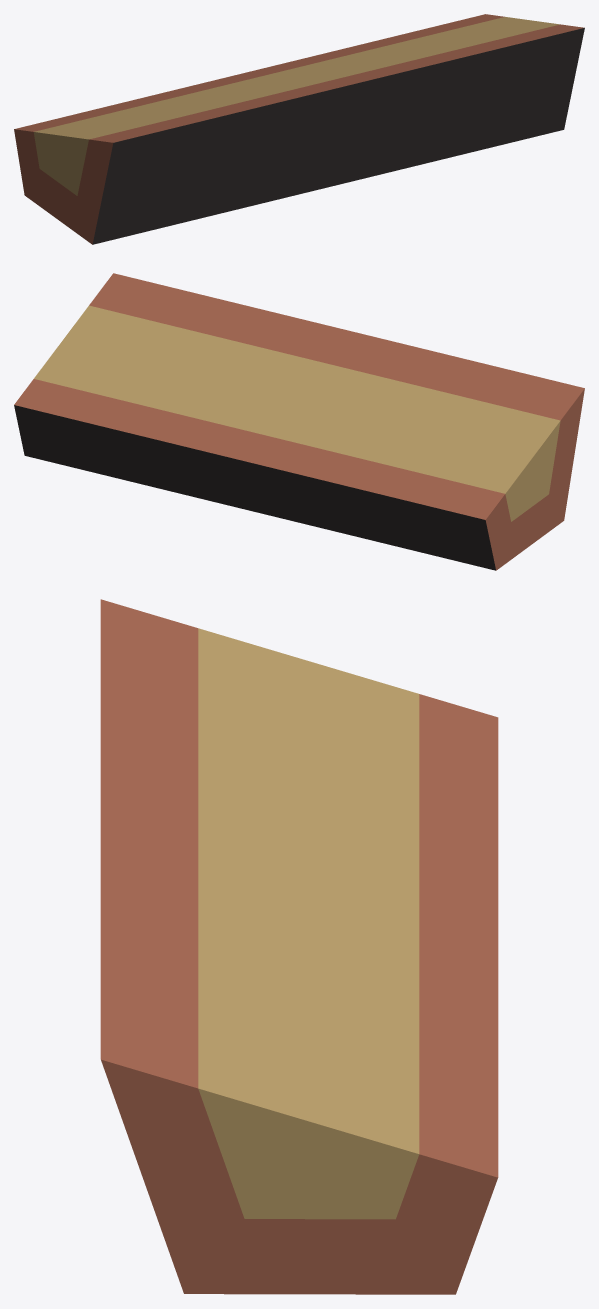
Rendered from TB_Prop_Lumber_Half_C.FBX.
3 renders of one model, top to bottom at view 1: azimuth 30°, elevation 25°; view 2: azimuth 150°, elevation 25°; view 3: azimuth 270°, elevation 25°, orthographic. The views are drawn at different scales.
Visible parts, largest first — view 1: TB_Prop_Lumber_Half_C; view 2: TB_Prop_Lumber_Half_C; view 3: TB_Prop_Lumber_Half_C.
Part boxes in pixels (<box>): TB_Prop_Lumber_Half_C: <box>14,14,584,244</box>; TB_Prop_Lumber_Half_C: <box>14,273,584,570</box>; TB_Prop_Lumber_Half_C: <box>100,599,498,1294</box>.
Bounding box in the file's own units: 1.65 × 0.3939 × 0.6032.
